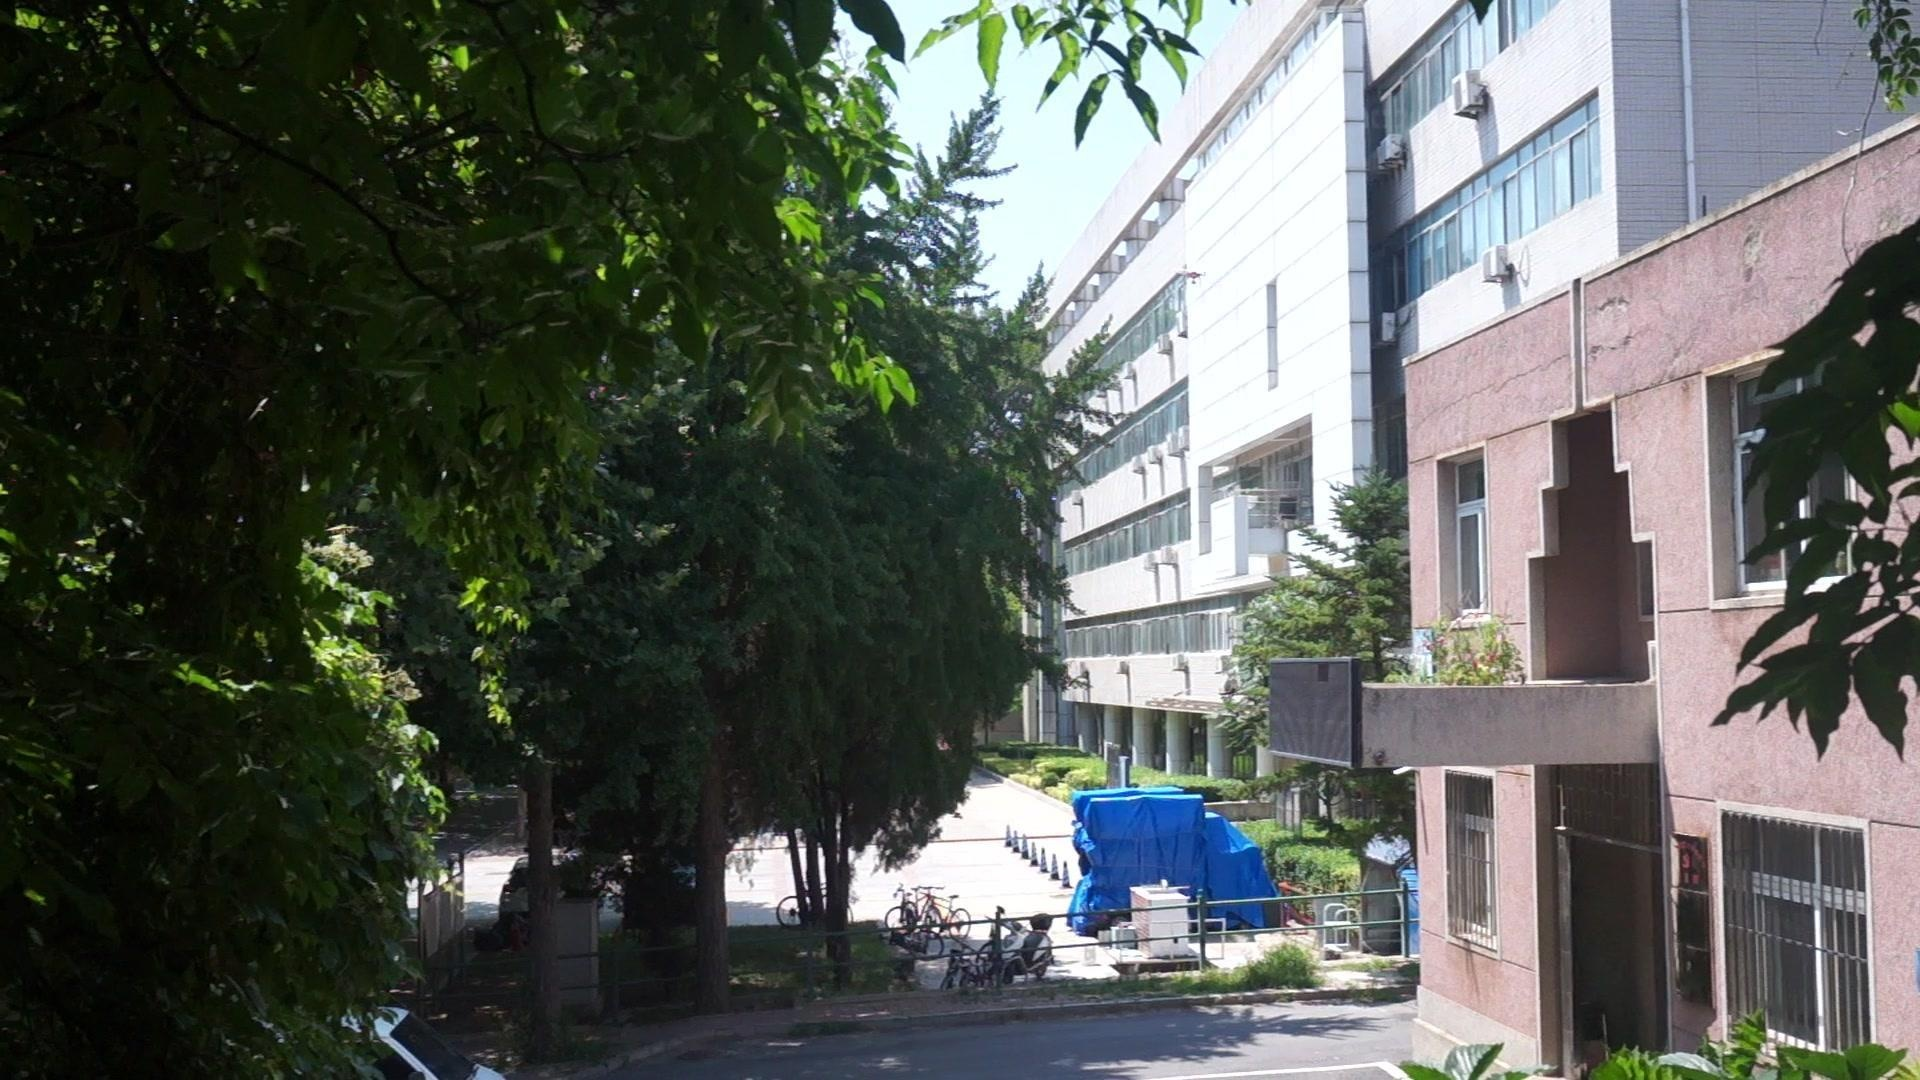UAV: (1168, 265, 1207, 287)
